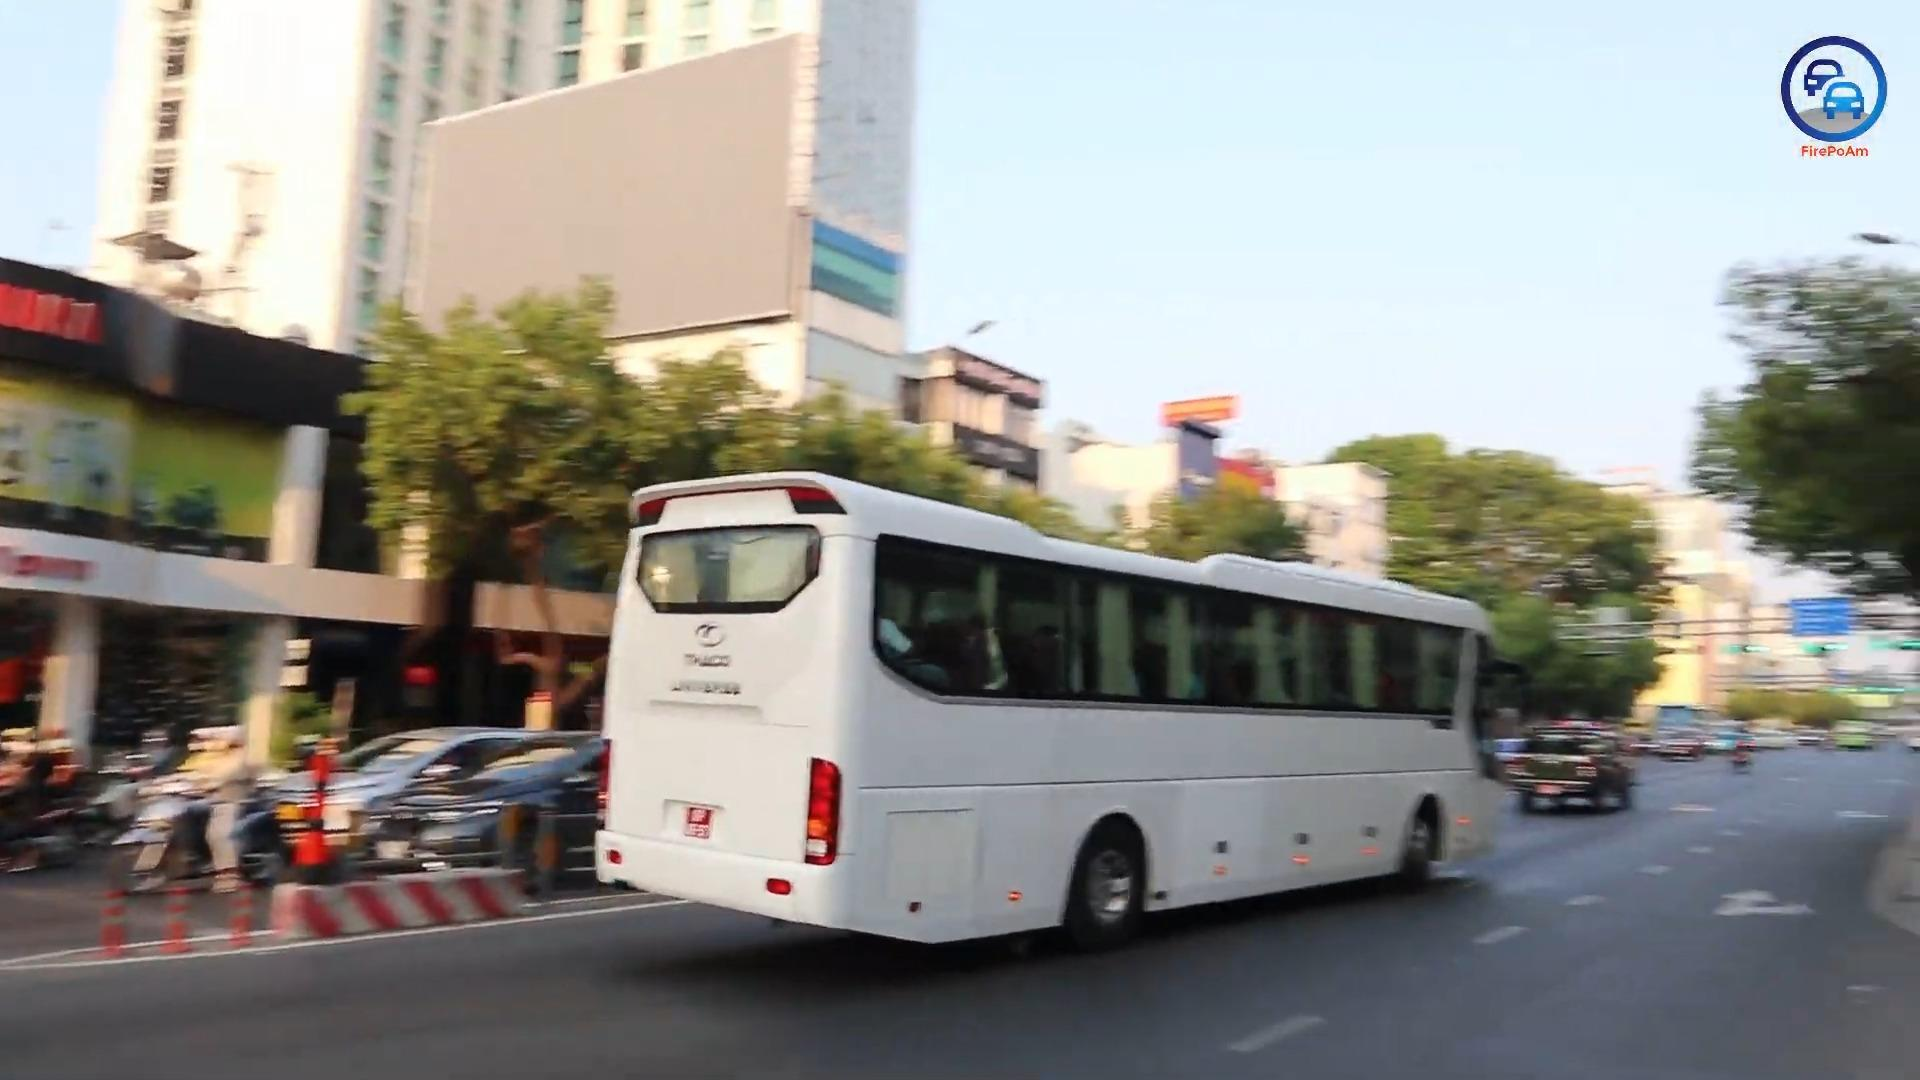bien_so: (682, 804, 712, 841)
